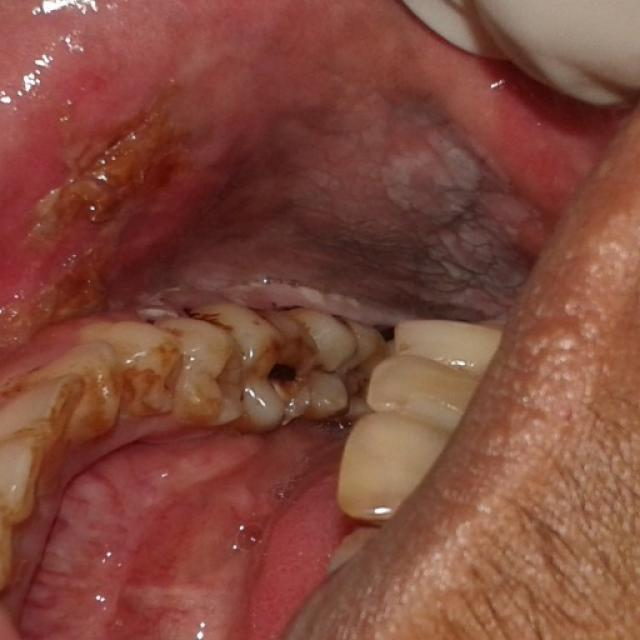cancer-detection: (193, 91, 551, 318), (2, 100, 229, 362)
processing_area: (4, 3, 607, 401), (26, 430, 349, 635)
